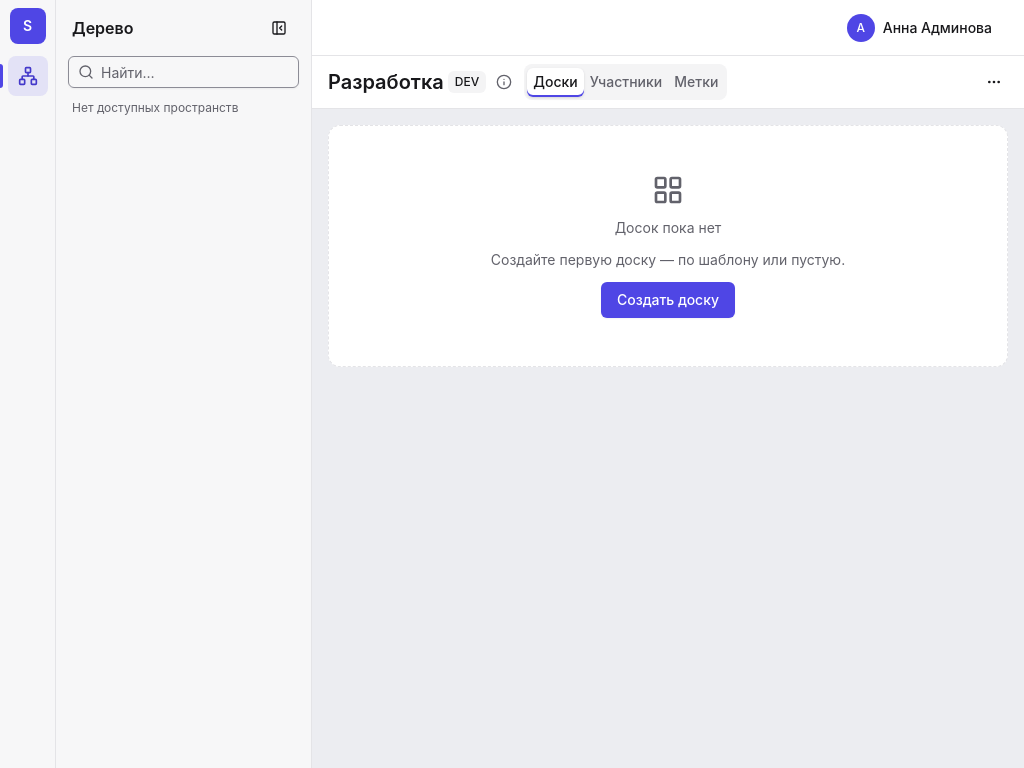
it: Метки › на странице пространства: метки пространства и общие для справки
The image size is (1024, 768).
Click the tab "Метки". click: (696, 82)
box: [668, 68, 724, 96]
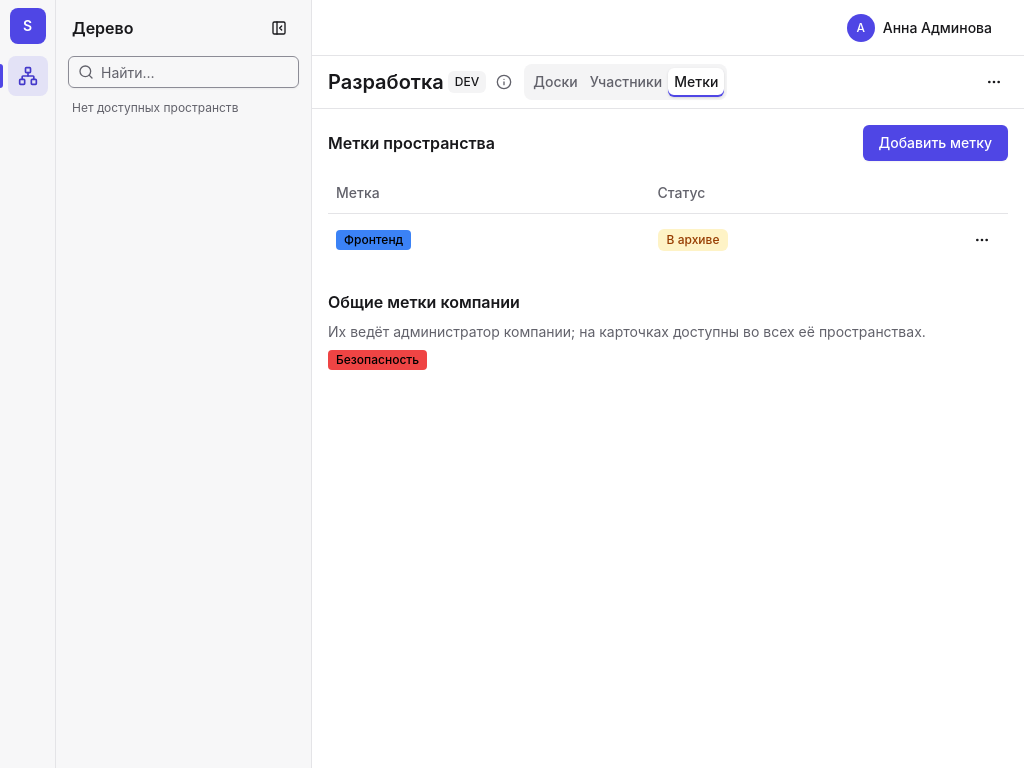
Check: the text "В архиве" is shown, box [658, 228, 728, 250]
Check: the text "Безопасность" is shown, box [336, 352, 419, 368]
Click the button named "Действия с меткой «Фронтенд»". click: (982, 240)
box: [964, 222, 1000, 258]
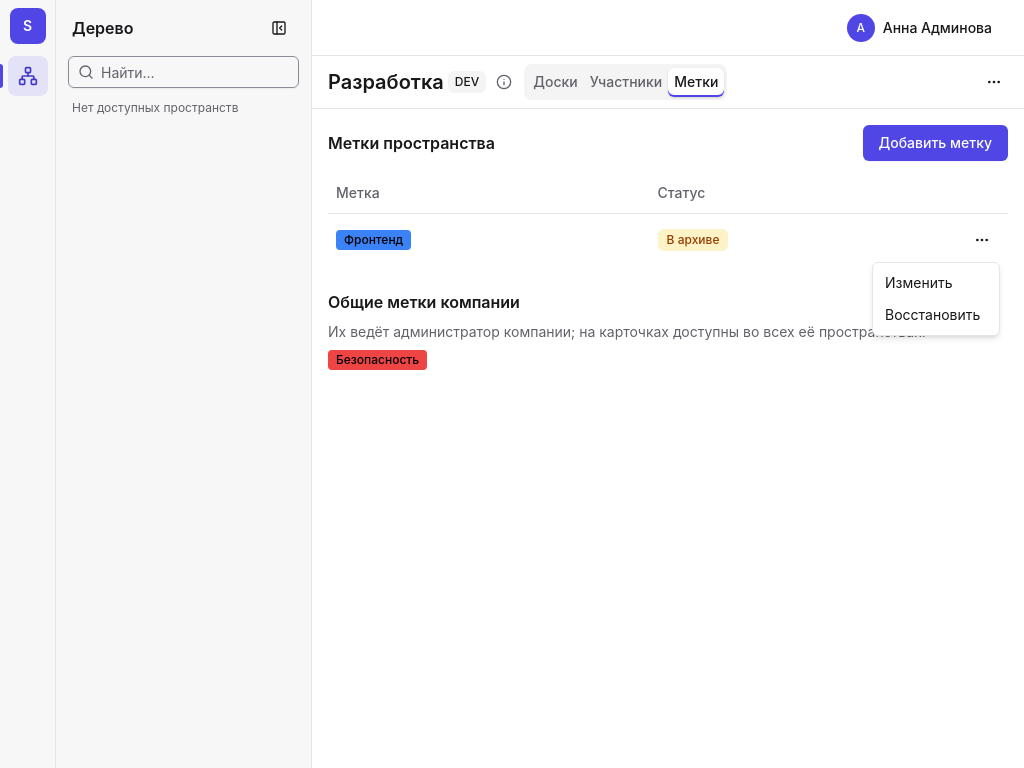
Click the menu item "Восстановить". click: (933, 314)
box: [885, 306, 980, 323]
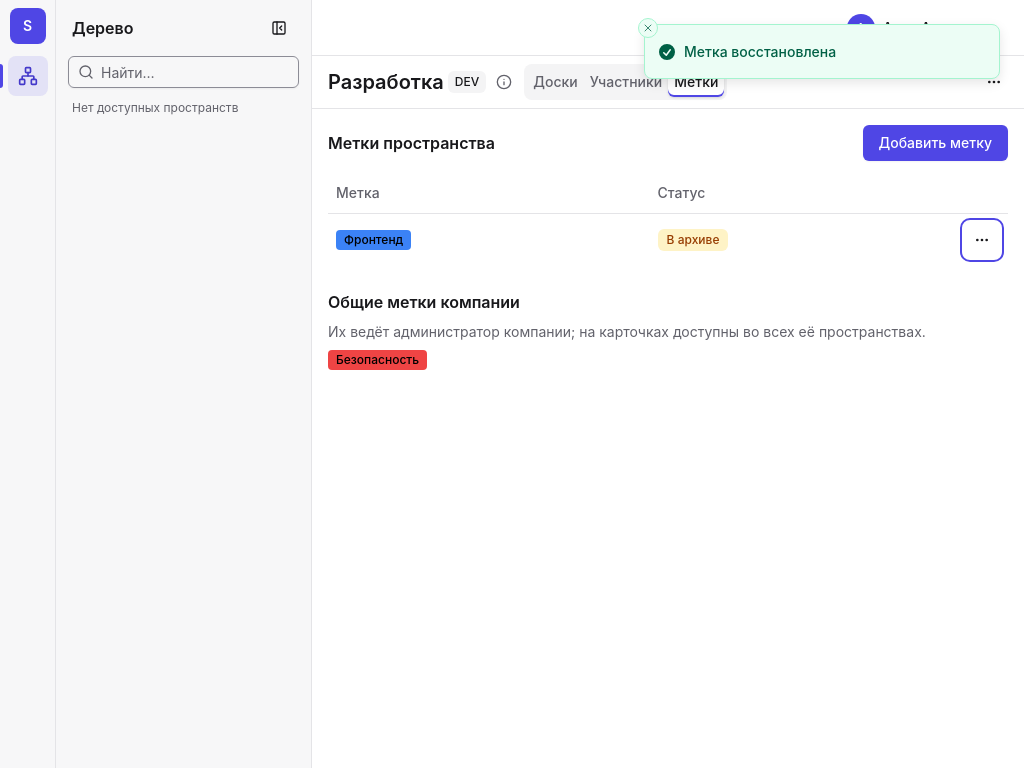
Check: the text "Метка восстановлена" is shown, box [684, 41, 836, 62]
